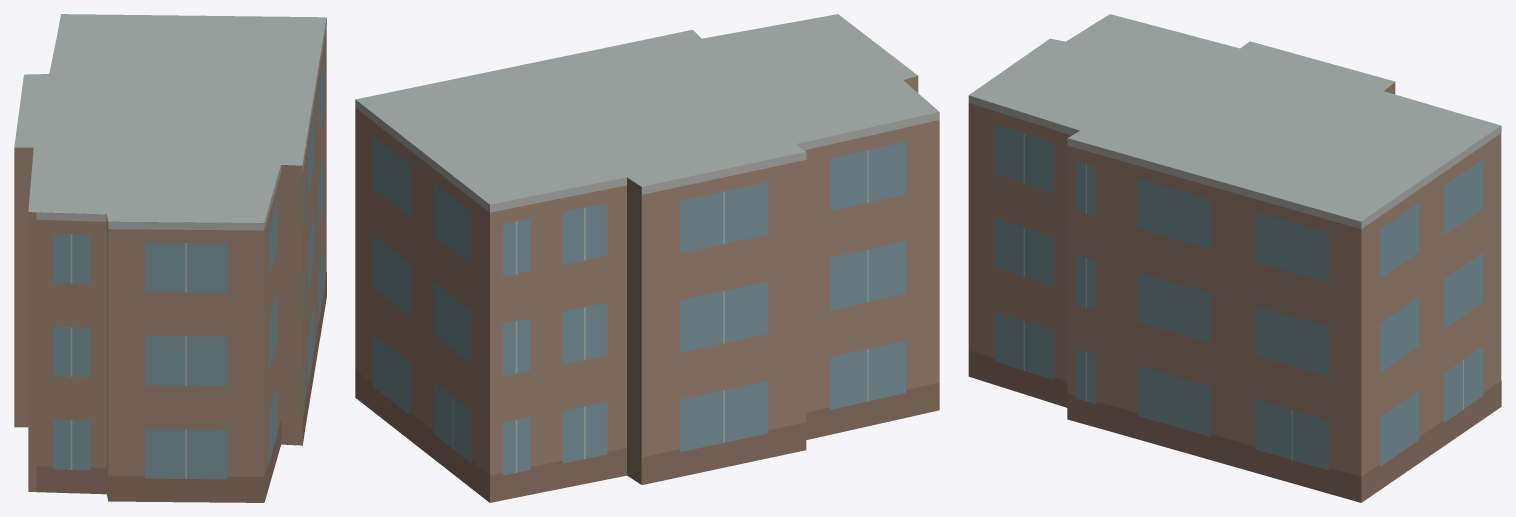
The model's file is survey-upis-32737243.glb.
3 views of the same model, side by side, from view 1: azimuth 30°, elevation 25°; view 2: azimuth 150°, elevation 25°; view 3: azimuth 270°, elevation 25° (orthographic). The views are drawn at different scales.
Visible parts, largest first — view 1: survey-upis-32737243.tmp; view 2: survey-upis-32737243.tmp; view 3: survey-upis-32737243.tmp.
Part boxes in pixels (bbox=[...]): survey-upis-32737243.tmp: bbox=[14, 14, 326, 502]; survey-upis-32737243.tmp: bbox=[355, 14, 939, 502]; survey-upis-32737243.tmp: bbox=[968, 14, 1501, 502].
Bounding box in the file's own units: 14.5 × 9.15 × 15.72.
